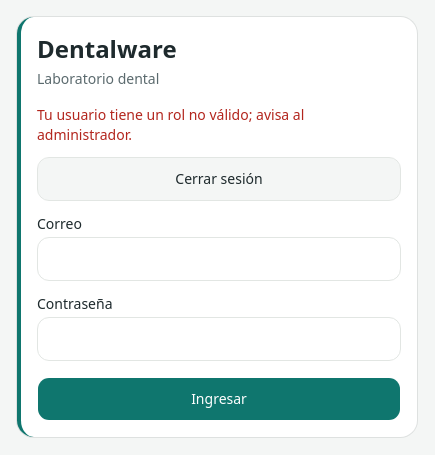
Scenario: sesión con un rol no válido (issue #21) › el aviso ofrece cerrar sesión y, al hacerlo, queda el login limpio
Click the button "Cerrar sesión".
click(219, 179)  # box [37,157,401,201]
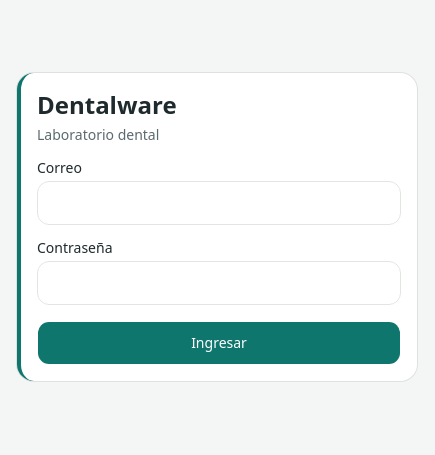
Expected: the button "Ingresar" is shown, [37,321,401,365]
Now the message "Tu usuario tiene un rol no válido; avisa al administrador." is gone
